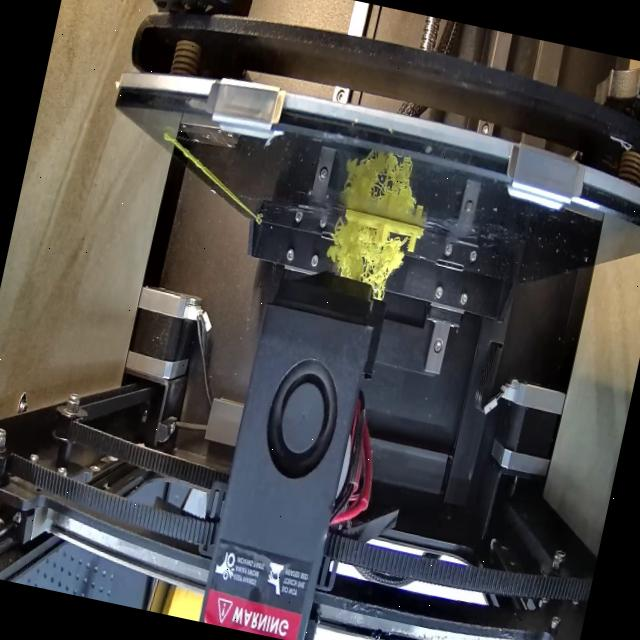spaghetti: (322, 220, 408, 298)
